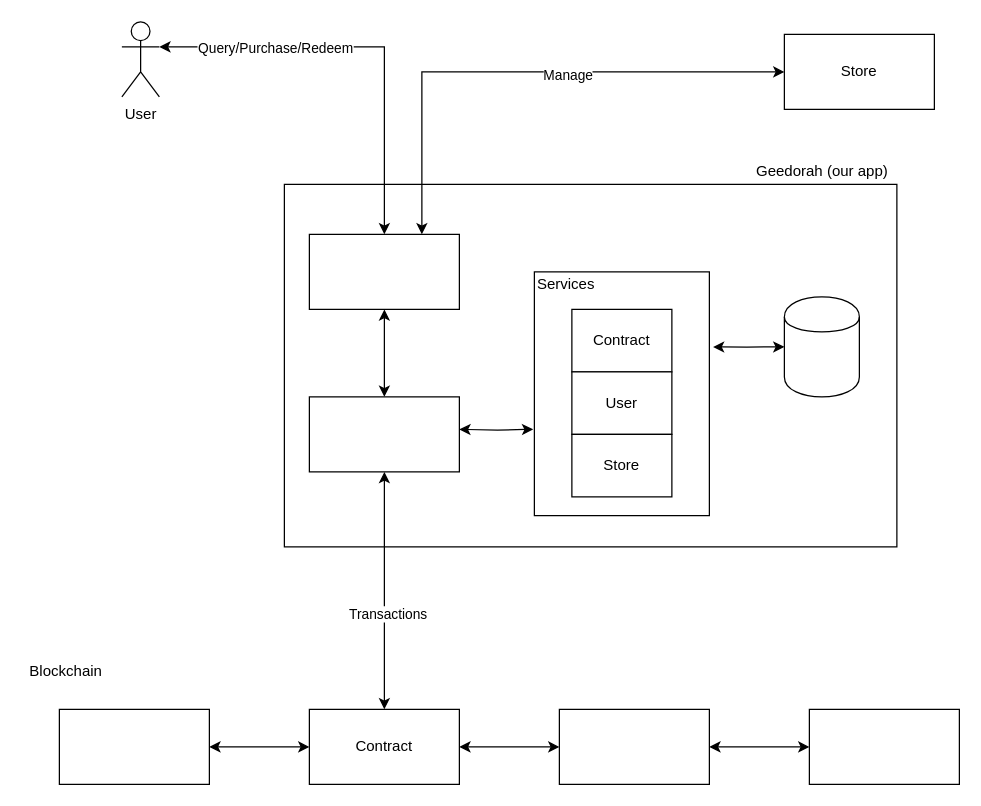
The diagram is 981 pixels wide and 806 high, and some of its shapes have lost their labels. Here are the shapes that lost their labels. From the top down, the centre of each, then its label:
(383,271): Frontend
(821,346): DB
(383,434): API
